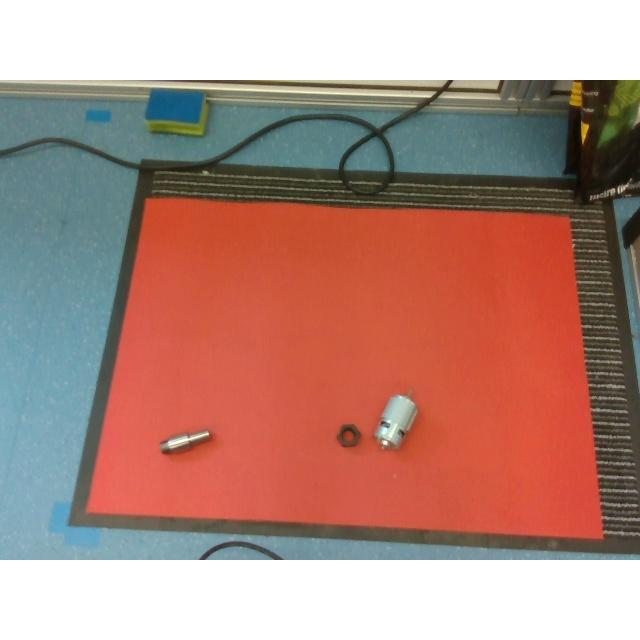Axis2: (158, 428, 210, 452)
M20: (336, 423, 360, 445)
Motor2: (376, 394, 416, 446)
